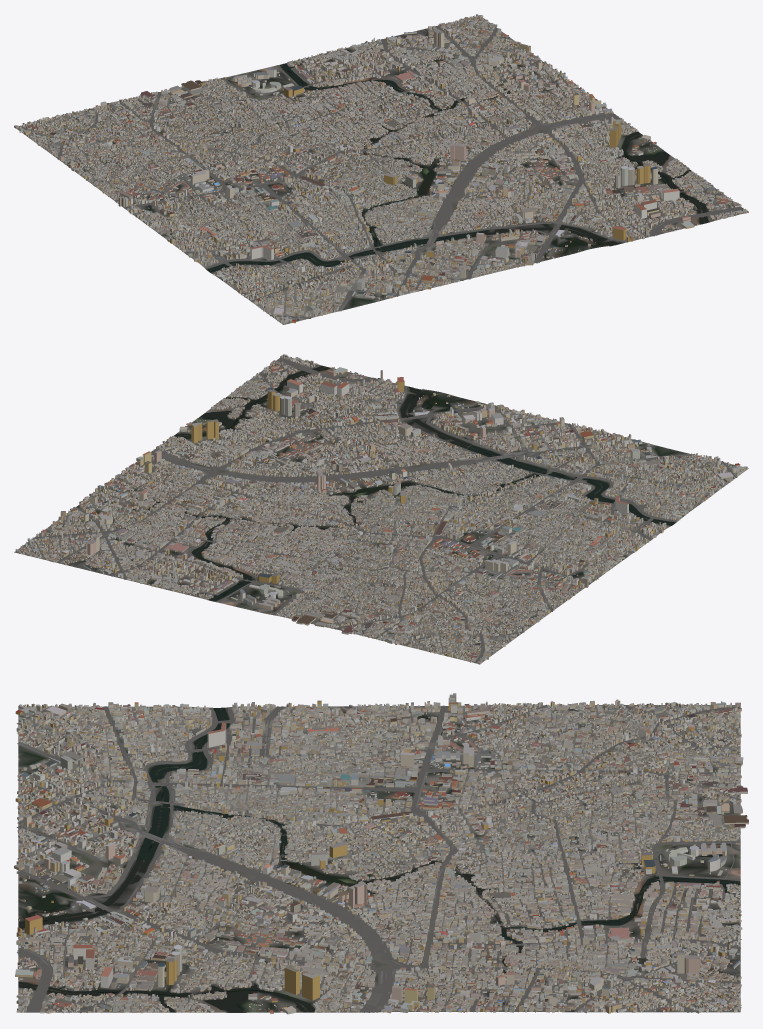
3 views of the same model, one above another, from view 1: azimuth 30°, elevation 25°; view 2: azimuth 150°, elevation 25°; view 3: azimuth 270°, elevation 25° (orthographic). The views are drawn at different scales.
Parts seen in each view (by area): view 1: buildings, ground, roads, water; view 2: buildings, ground, roads, water; view 3: buildings, ground, roads, water.
Part boxes in pixels (left/top/right/bottom): buildings: left=14, top=14, right=748, bottom=324; ground: left=17, top=16, right=747, bottom=324; roads: left=19, top=22, right=742, bottom=318; water: left=207, top=63, right=708, bottom=272; buildings: left=15, top=354, right=747, bottom=664; ground: left=14, top=357, right=748, bottom=663; roads: left=31, top=358, right=737, bottom=663; water: left=148, top=365, right=675, bottom=601; buildings: left=14, top=693, right=748, bottom=1014; ground: left=18, top=705, right=740, bottom=1012; roads: left=16, top=704, right=741, bottom=1013; water: left=18, top=707, right=740, bottom=1012.
Bounding box in the file's own units: 2826 × 105 × 2851.
